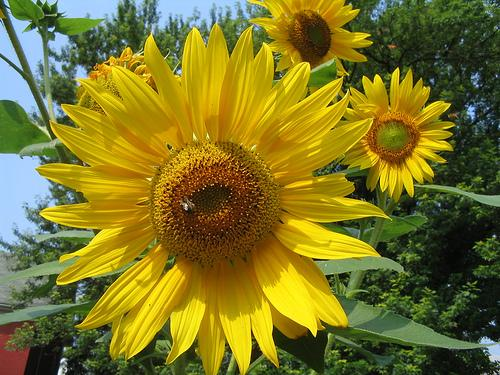sunflower: (46, 25, 387, 375), (342, 62, 455, 193), (247, 0, 371, 83)
